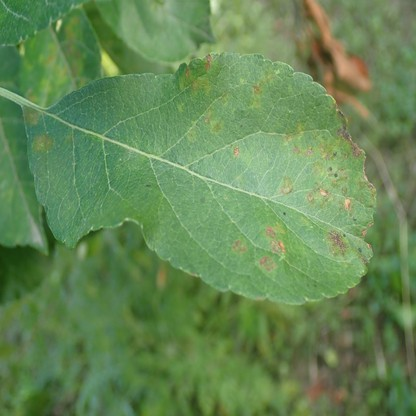frogeye_leaf_spot: (206, 56, 212, 70), (185, 69, 189, 76)
scab: (331, 102, 362, 157), (251, 69, 276, 108), (310, 132, 340, 161), (325, 230, 352, 258), (327, 161, 349, 195), (64, 16, 81, 57), (55, 58, 82, 80), (281, 123, 304, 146), (307, 188, 332, 209), (266, 225, 284, 253), (38, 43, 56, 68), (205, 109, 224, 132), (31, 135, 53, 151), (23, 107, 40, 127), (191, 77, 209, 95), (257, 257, 276, 273), (233, 238, 247, 254), (292, 146, 311, 157), (38, 76, 51, 92), (280, 176, 293, 192), (312, 163, 325, 179), (25, 88, 37, 102), (230, 143, 239, 159), (219, 89, 228, 104), (186, 131, 197, 143), (358, 253, 369, 265), (64, 135, 73, 145), (344, 198, 350, 212), (176, 102, 184, 112)
